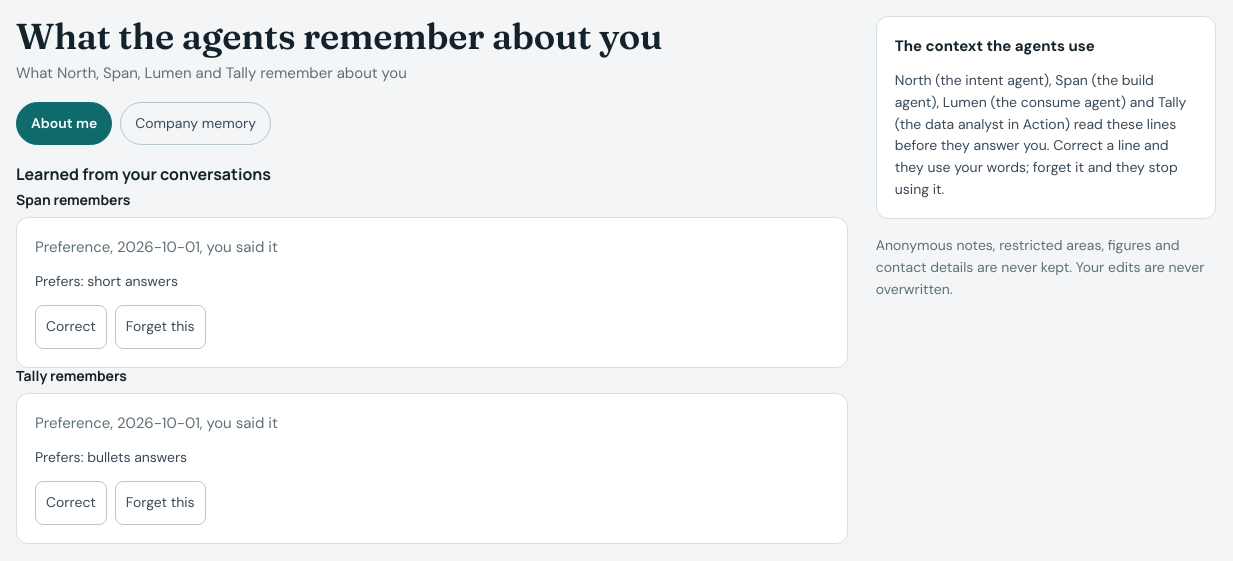
Scenario: a10.1: an analyst may open and change company memory
Click the tab "Company memory": (196, 123) [120,102,271,145]
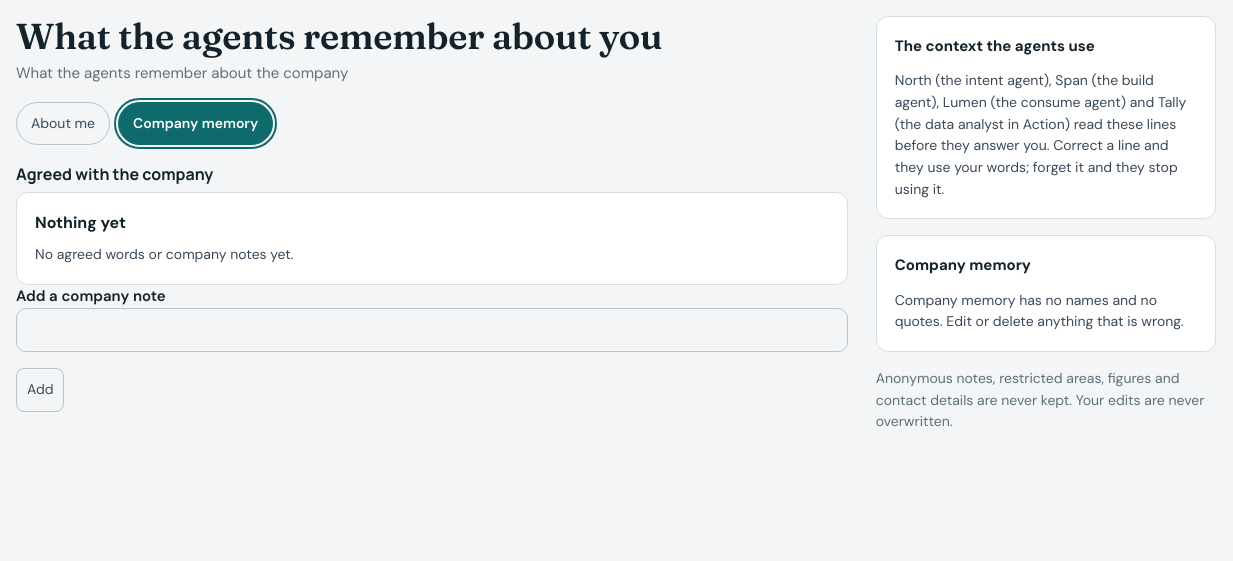
Expected: the field labelled "Add a company note" is shown, [16,308,848,352]
